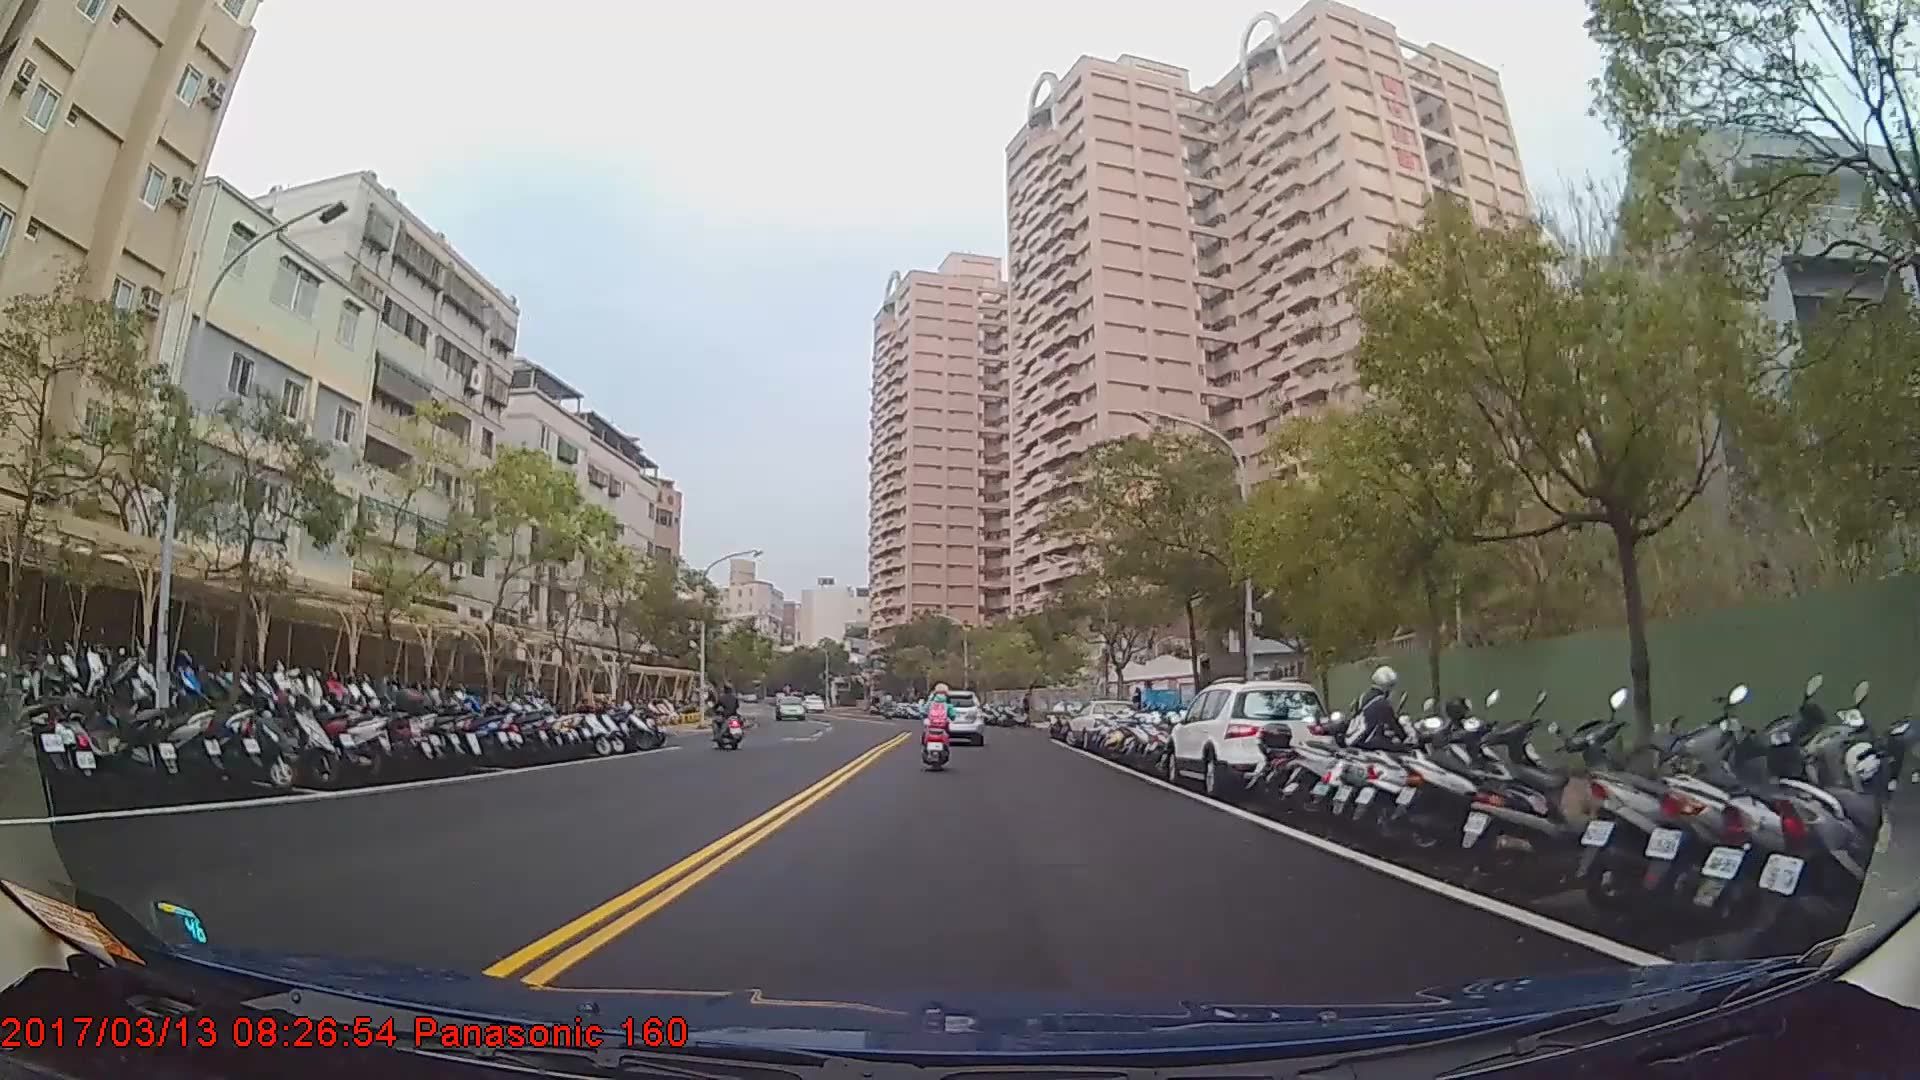rider: (919, 680, 956, 774), (711, 680, 741, 743)
vehicle: (1163, 679, 1330, 796), (1062, 697, 1143, 752), (924, 685, 982, 742), (772, 693, 806, 717)
